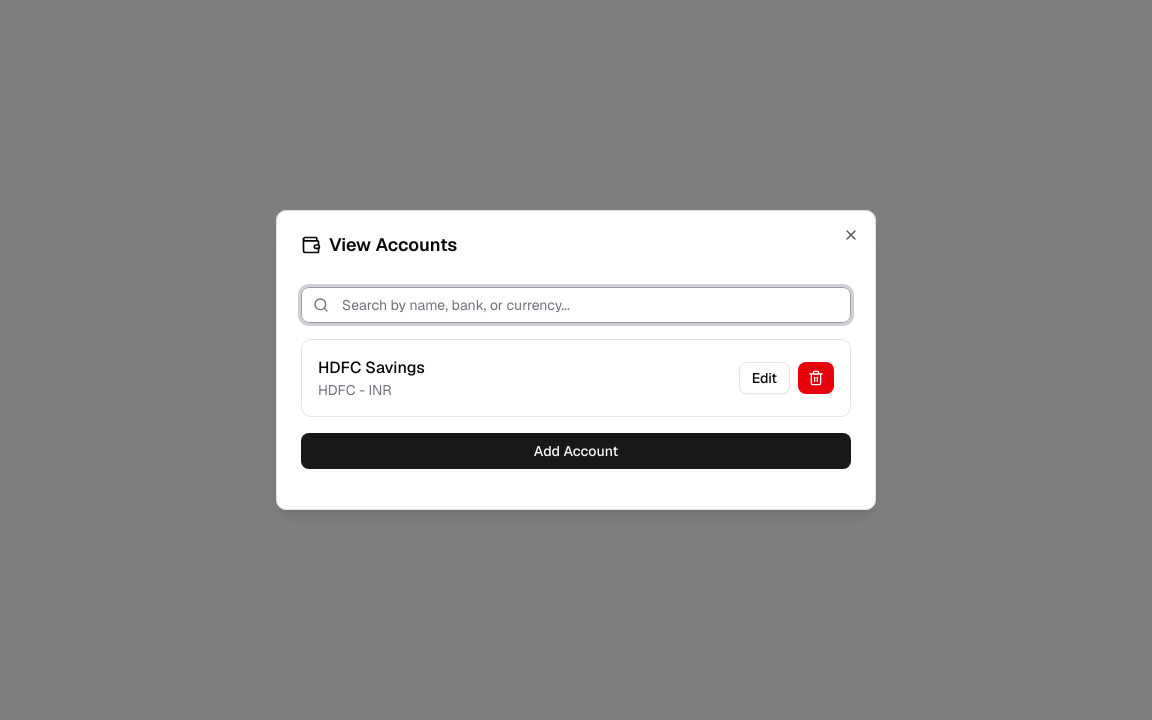
Test: ViewAccountsModal › deletes an account after confirming
The width and height of the screenshot is (1152, 720).
Expected: the heading "HDFC Savings" is shown, [318,356,425,380]
Click the button named "Delete" in the row of "HDFC Savings" at [816, 378], box [798,362,834,394]
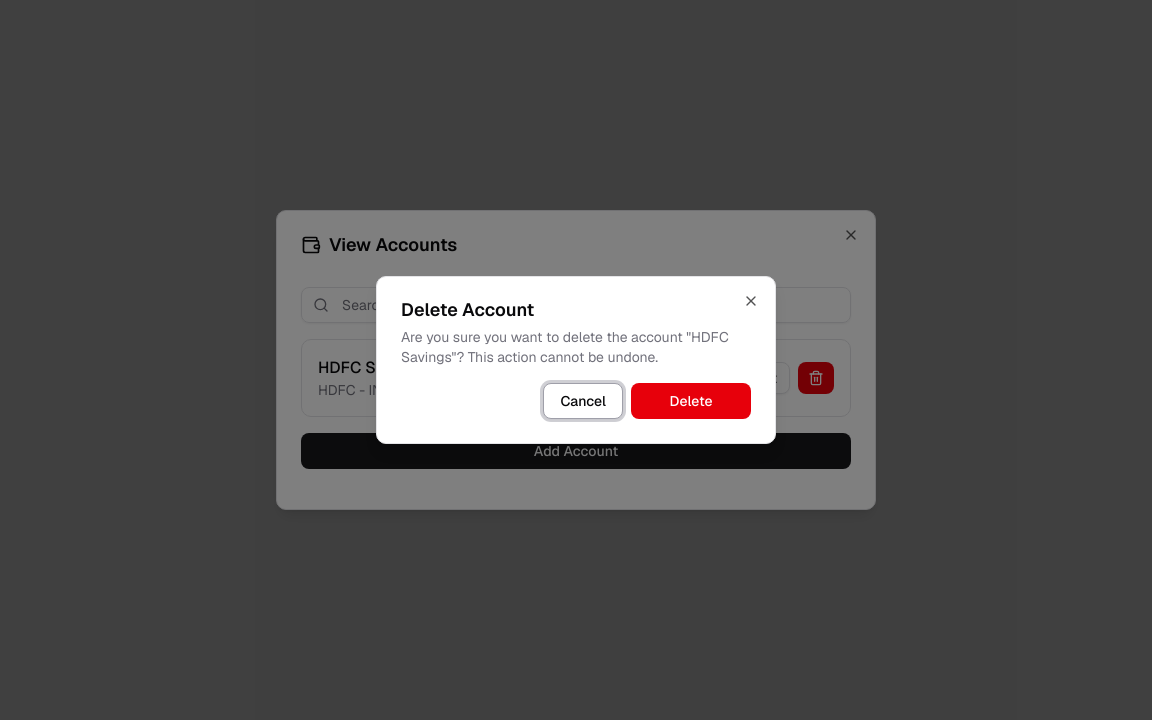
Click the button "Delete" at [691, 401], box [631,383,751,419]
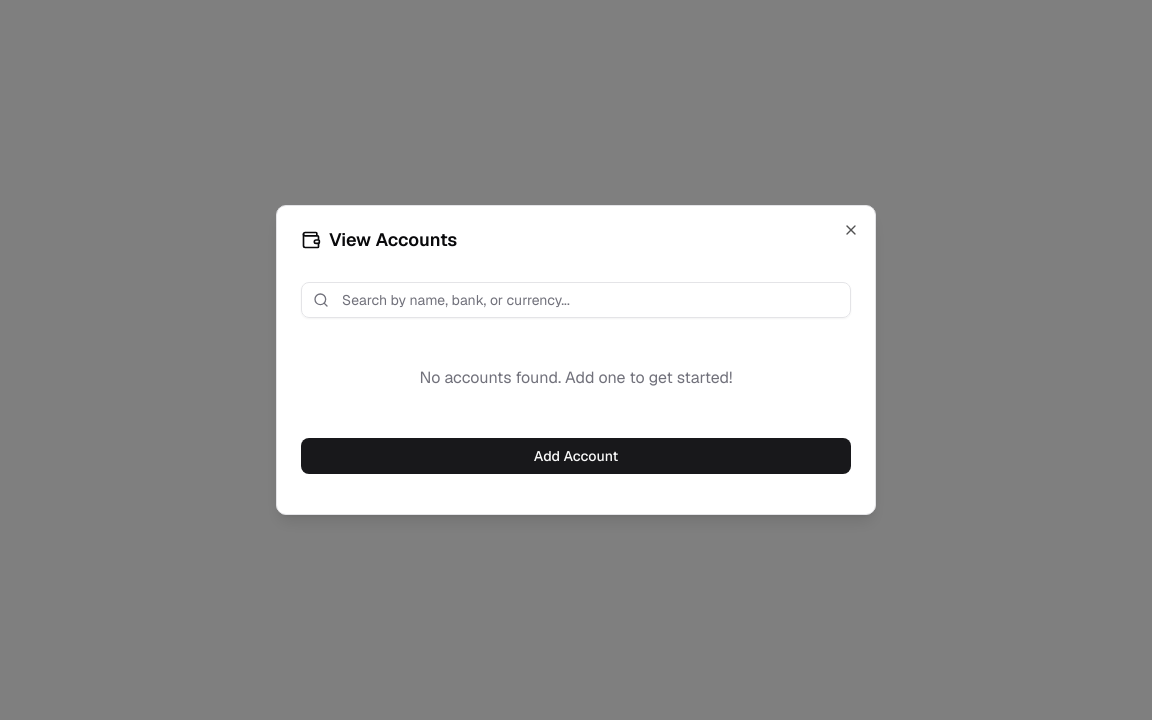
Result: the heading "HDFC Savings" is gone
